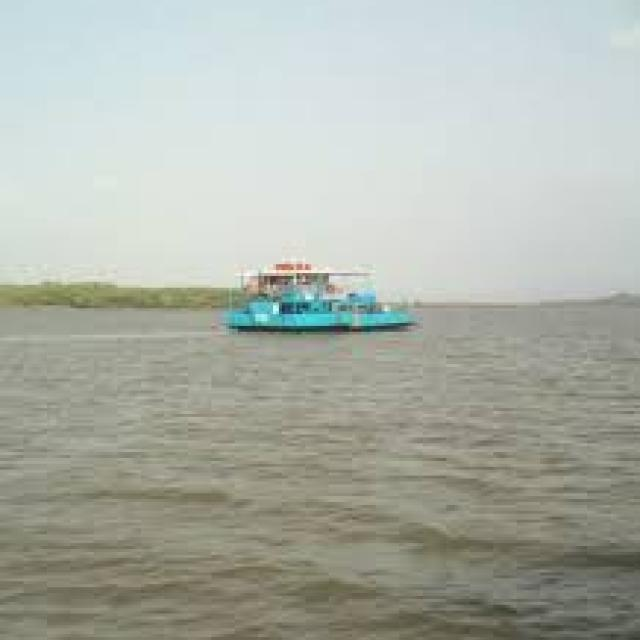fishing boat: (224, 250, 416, 336)
